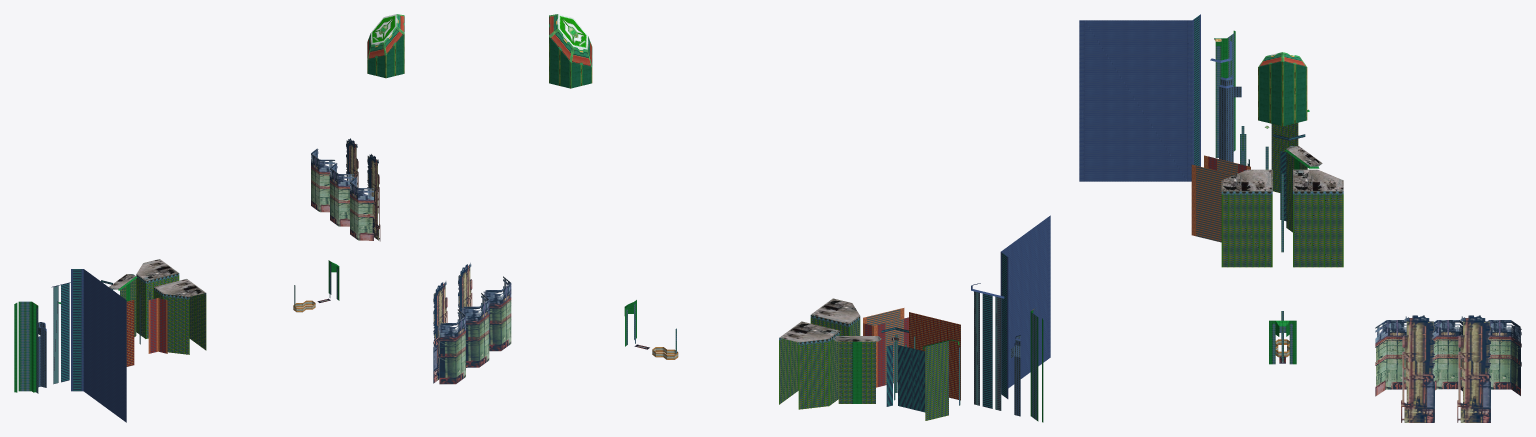
The picture shows the model from 3 angles, left to right: view 1: azimuth 30°, elevation 25°; view 2: azimuth 150°, elevation 25°; view 3: azimuth 270°, elevation 25°; orthographic projection. The views are drawn at different scales.
Visible parts, largest first — view 1: s03_pn_11_4, s03_pn_11_19, s03_pn_11_11, s03_pn_11_3, s03_pn_11_1, s03_pn_11_0, s03_pn_11_13, s03_pn_11_5, s03_pn_11_15, s03_pn_11_6, s03_pn_11_22, s03_pn_11_16 (+3 smaller); view 2: s03_pn_11_11, s03_pn_11_19, s03_pn_11_4, s03_pn_11_3, s03_pn_11_22, s03_pn_11_13, s03_pn_11_1, s03_pn_11_16, s03_pn_11_0, s03_pn_11_5, s03_pn_11_6, s03_pn_11_14 (+3 smaller); view 3: s03_pn_11_4, s03_pn_11_19, s03_pn_11_11, s03_pn_11_5, s03_pn_11_13, s03_pn_11_14, s03_pn_11_0, s03_pn_11_3, s03_pn_11_10, s03_pn_11_1, s03_pn_11_18, s03_pn_11_6.
Part boxes in pixels (x1,y1,x2,y2): s03_pn_11_4: (38, 269, 126, 422); s03_pn_11_19: (311, 138, 380, 241); s03_pn_11_11: (120, 275, 206, 354); s03_pn_11_3: (61, 269, 112, 391); s03_pn_11_1: (14, 260, 339, 392); s03_pn_11_0: (20, 263, 337, 393); s03_pn_11_13: (109, 259, 205, 296); s03_pn_11_5: (367, 34, 404, 78); s03_pn_11_15: (150, 298, 165, 353); s03_pn_11_6: (367, 14, 404, 59); s03_pn_11_22: (126, 300, 134, 366); s03_pn_11_16: (53, 285, 58, 384); s03_pn_11_11: (779, 317, 948, 420); s03_pn_11_19: (433, 262, 511, 384); s03_pn_11_4: (971, 215, 1050, 398); s03_pn_11_3: (881, 253, 1006, 412); s03_pn_11_22: (909, 312, 960, 400); s03_pn_11_13: (779, 298, 878, 342); s03_pn_11_1: (624, 300, 1043, 422); s03_pn_11_16: (974, 291, 1001, 410); s03_pn_11_0: (626, 303, 1037, 420); s03_pn_11_5: (549, 37, 592, 88); s03_pn_11_6: (549, 14, 592, 67); s03_pn_11_14: (866, 308, 903, 385); s03_pn_11_4: (1079, 14, 1233, 181); s03_pn_11_19: (1375, 315, 1521, 422); s03_pn_11_11: (1221, 122, 1343, 267); s03_pn_11_5: (1258, 61, 1307, 126); s03_pn_11_13: (1221, 146, 1343, 191); s03_pn_11_14: (1196, 158, 1238, 242); s03_pn_11_0: (1215, 33, 1292, 364); s03_pn_11_3: (1194, 15, 1305, 220); s03_pn_11_10: (1219, 79, 1241, 162); s03_pn_11_1: (1215, 30, 1319, 364); s03_pn_11_18: (1191, 155, 1250, 236); s03_pn_11_6: (1258, 52, 1306, 66).
Size of the model in its own units: 19215 by 11656 by 13043.
